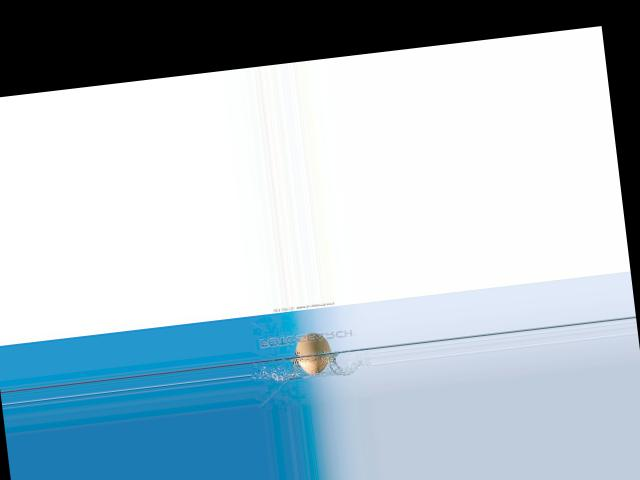egg: (294, 331, 333, 376)
